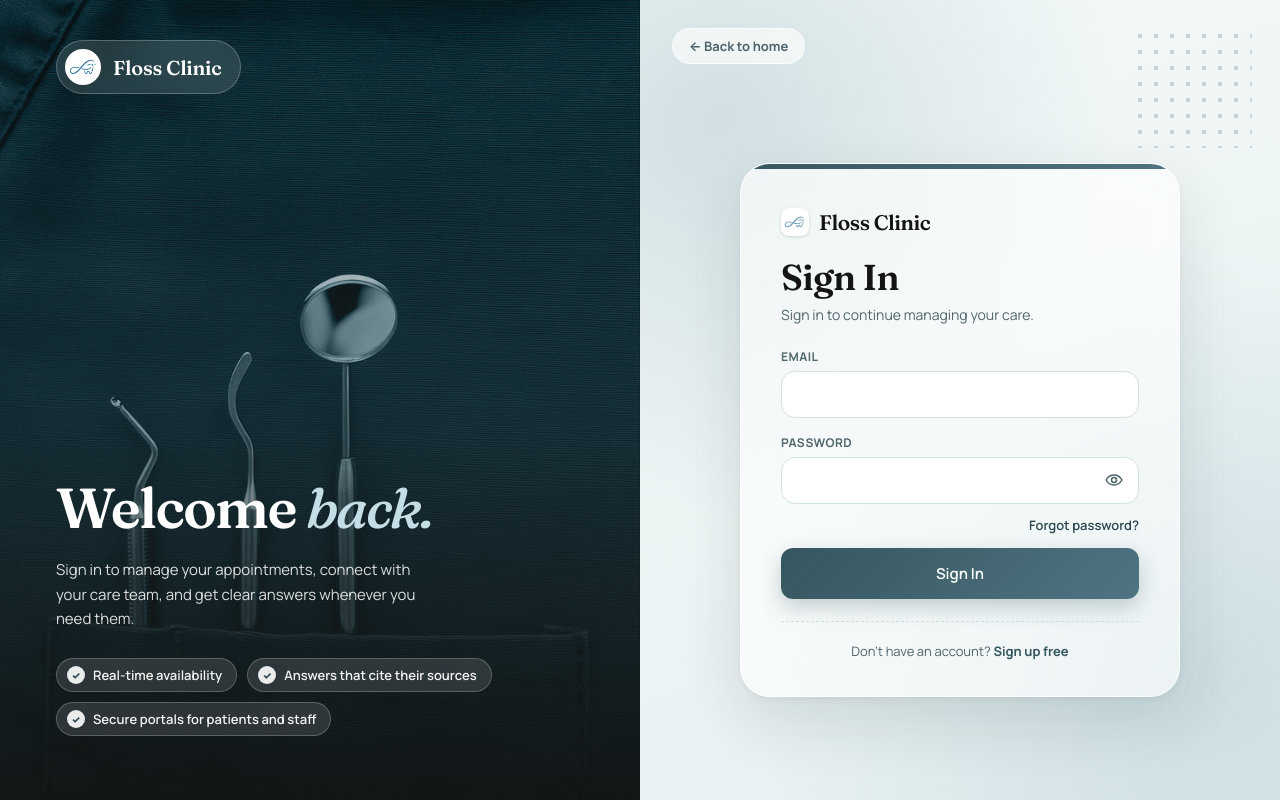
Test: LoginPage › when the account has 2FA enabled, prompts for a code instead of navigating
Type "patient@floss.demo" into the field labelled "Email" at coordinates (960, 394), box [781,371,1139,418]
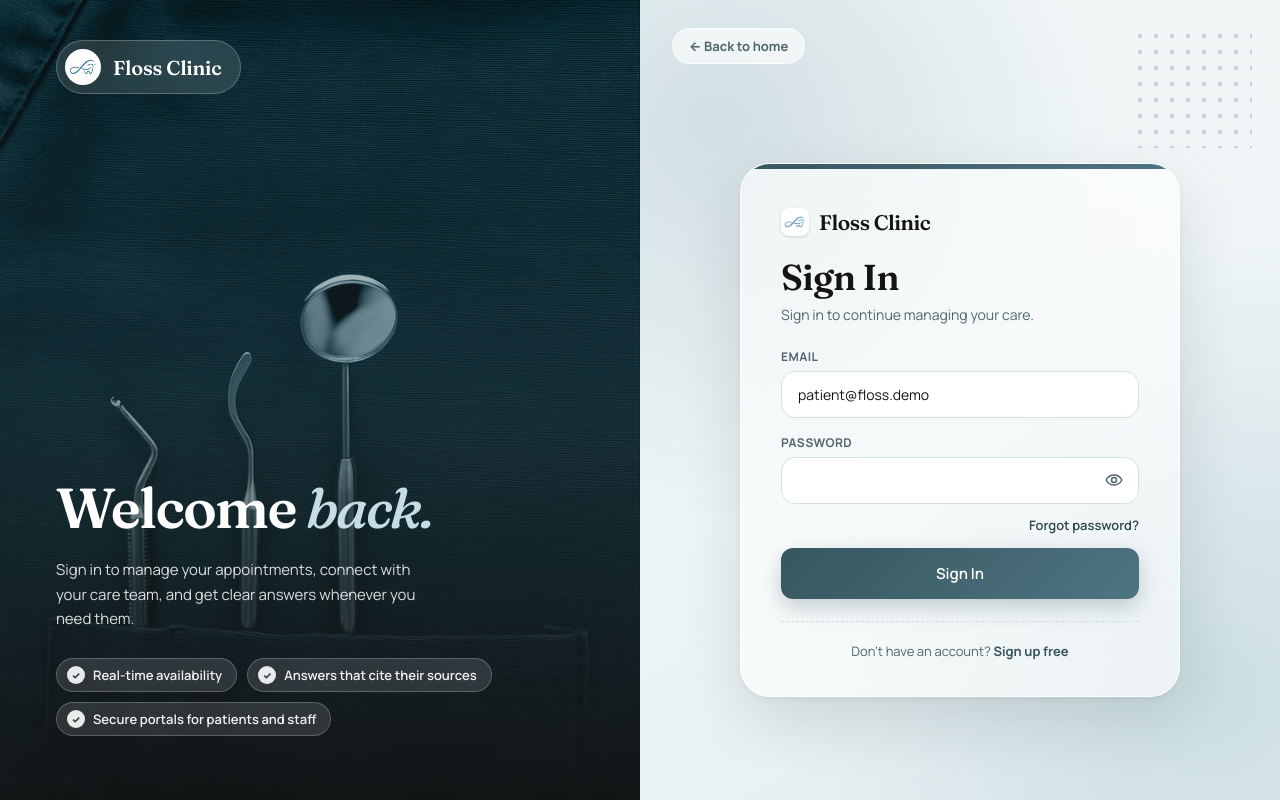
Type "password123" into the password field labelled "Password" at coordinates (960, 480), box [781,457,1139,504]
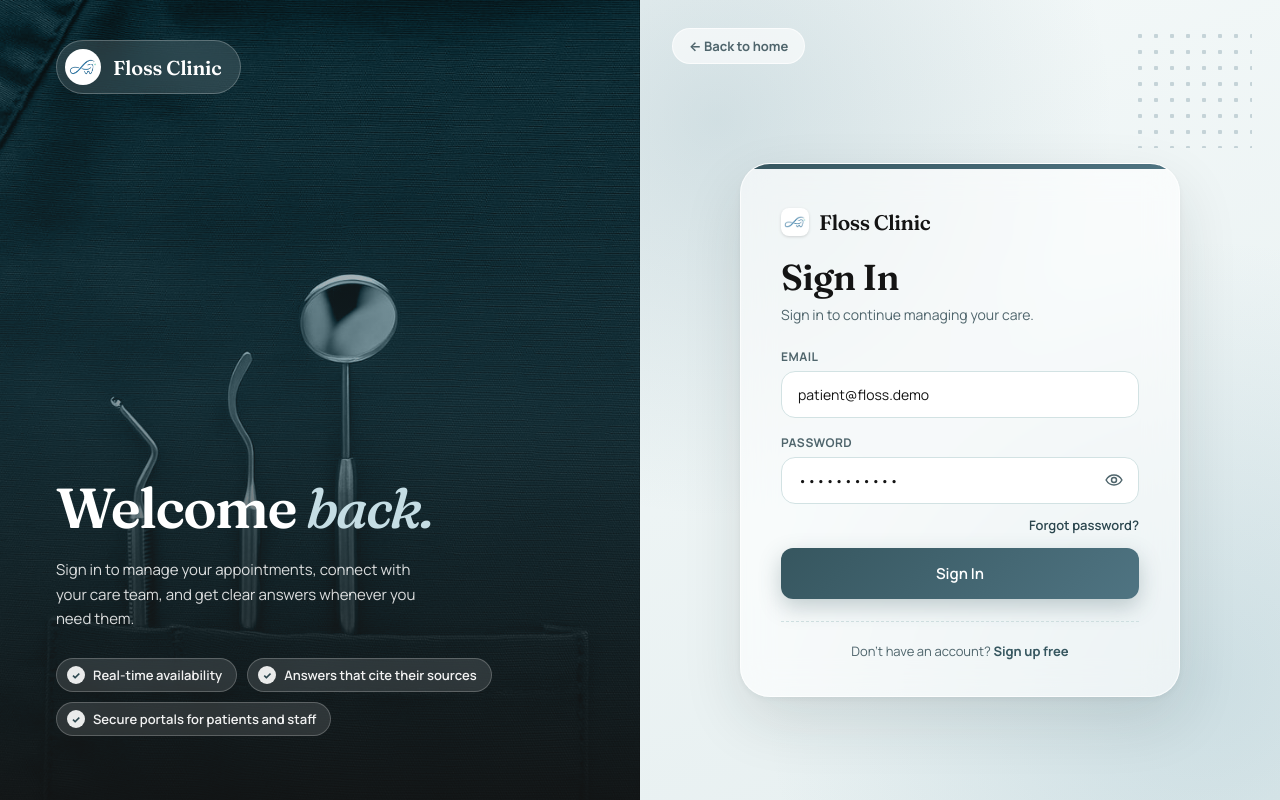
Click the button "Sign In" at coordinates (960, 574), box [781,548,1139,599]
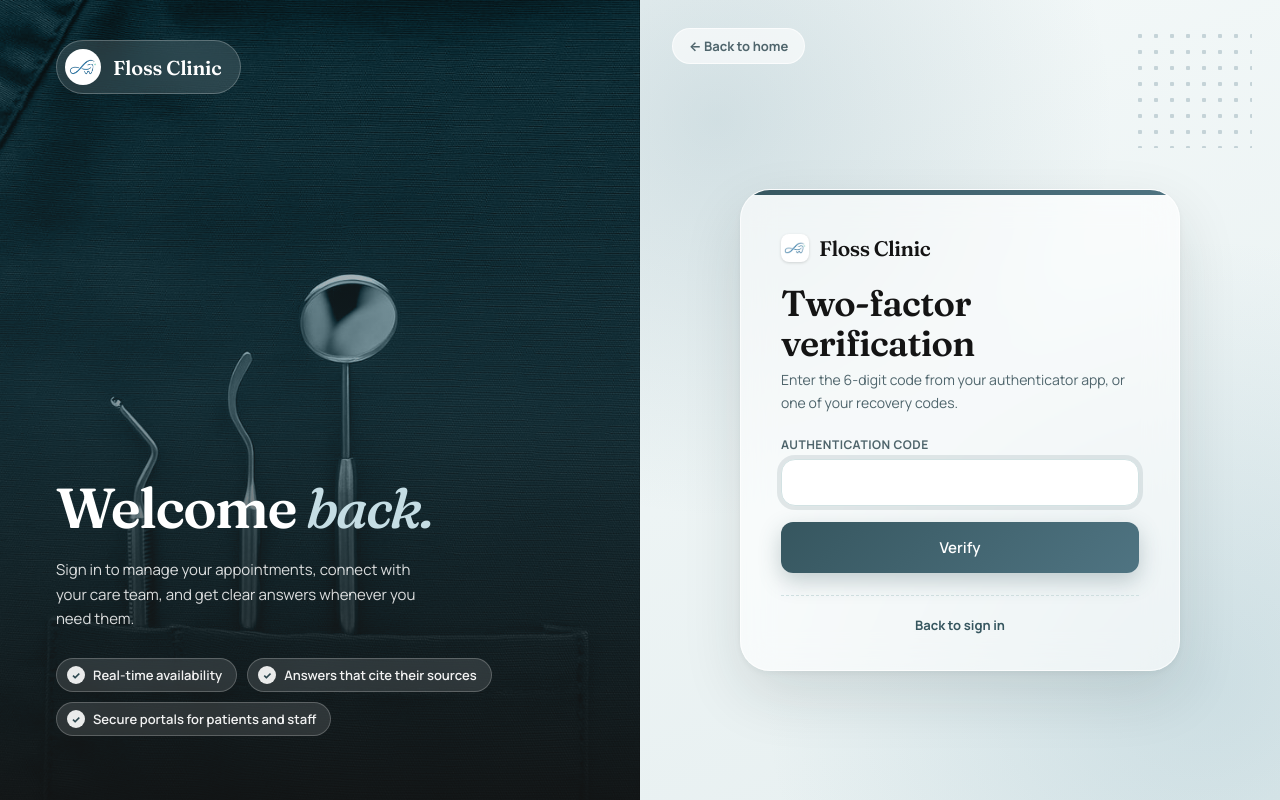
Check: the heading "Two-factor verification" is shown, box [781,281,975,365]
